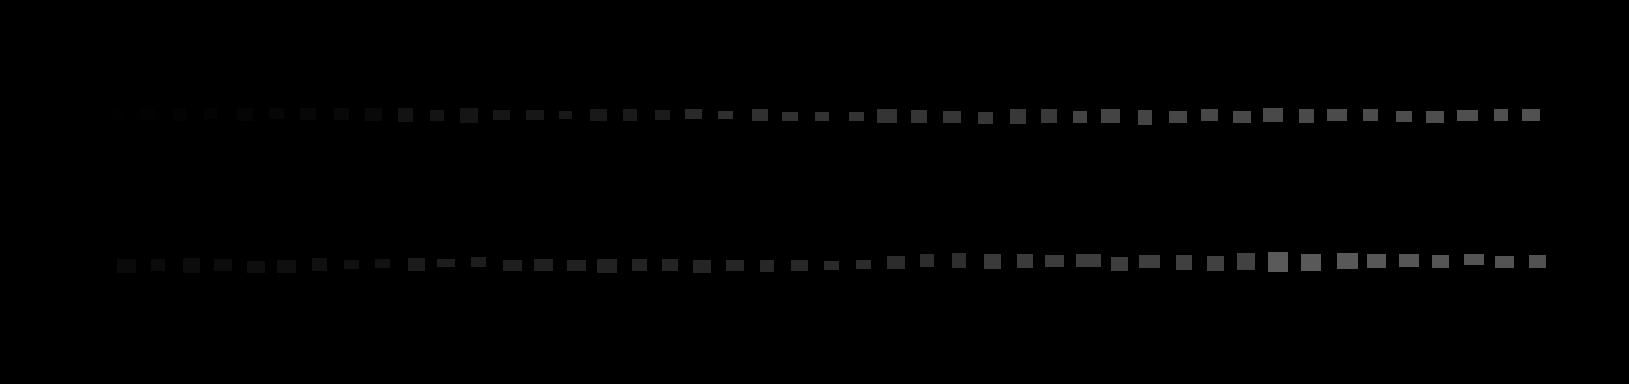light: (1269, 252, 1288, 272), (1301, 254, 1321, 271), (1337, 253, 1358, 269), (1076, 254, 1101, 267), (1237, 253, 1255, 270), (877, 109, 897, 124), (1263, 108, 1283, 122), (460, 108, 478, 124), (1139, 255, 1160, 268), (1101, 109, 1120, 124), (597, 259, 617, 273), (1327, 109, 1347, 121), (183, 258, 201, 273), (984, 254, 1002, 269), (117, 259, 136, 273), (1367, 254, 1386, 268), (1457, 110, 1478, 121), (1399, 254, 1419, 267), (1010, 109, 1026, 124), (1207, 256, 1224, 271), (365, 108, 382, 121), (1111, 257, 1128, 271), (277, 260, 296, 273), (1169, 111, 1187, 124), (398, 108, 413, 122), (1041, 109, 1057, 124), (1176, 255, 1192, 270), (1299, 109, 1314, 124), (237, 108, 253, 121), (247, 260, 265, 273), (693, 260, 711, 273), (887, 256, 905, 269), (943, 111, 961, 124), (1233, 111, 1251, 124), (1426, 111, 1444, 124), (1522, 109, 1540, 121), (1432, 255, 1449, 268), (534, 259, 553, 271), (1045, 255, 1064, 267), (1495, 256, 1514, 268), (952, 253, 966, 268), (1138, 110, 1152, 125), (911, 110, 927, 124), (1017, 254, 1033, 268), (590, 109, 607, 121), (408, 258, 425, 271), (1201, 109, 1218, 121), (1529, 255, 1546, 268), (1464, 254, 1484, 265), (214, 259, 232, 271), (300, 108, 316, 120), (333, 108, 349, 120), (312, 258, 327, 271), (526, 110, 544, 120), (503, 260, 522, 271), (567, 260, 586, 271), (752, 109, 768, 121), (662, 259, 678, 271), (726, 260, 744, 271), (791, 260, 808, 271), (685, 109, 702, 119), (1363, 109, 1378, 121), (1494, 109, 1508, 121), (632, 259, 647, 271), (978, 112, 993, 124), (1396, 111, 1412, 122), (493, 110, 510, 120), (173, 108, 186, 121), (623, 109, 637, 121), (920, 254, 934, 267), (1073, 111, 1087, 124), (140, 108, 155, 119), (269, 108, 284, 119), (151, 259, 165, 271), (655, 110, 670, 120), (204, 108, 217, 119), (430, 110, 444, 121), (760, 260, 774, 272), (471, 257, 486, 267), (824, 260, 839, 270), (782, 112, 798, 121), (849, 112, 864, 121), (110, 108, 124, 118), (814, 112, 829, 121), (344, 260, 359, 269), (718, 111, 733, 119), (437, 259, 455, 267), (375, 259, 390, 268), (856, 260, 871, 269), (559, 111, 572, 119)
